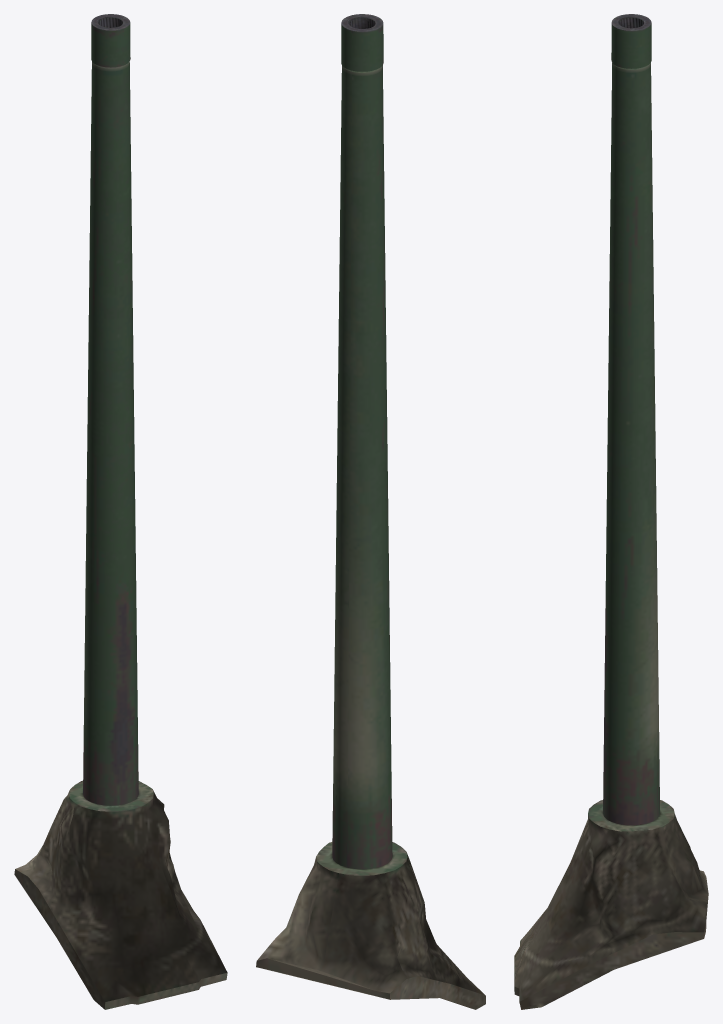
The model's file is Gun_02.glb.
3 renders of one model, left to right at view 1: azimuth 30°, elevation 25°; view 2: azimuth 150°, elevation 25°; view 3: azimuth 270°, elevation 25°, orthographic. The views are drawn at different scales.
Visible parts, largest first — view 1: set_0_group_0; view 2: set_0_group_0; view 3: set_0_group_0.
Part boxes in pixels (bbox=[...]): set_0_group_0: bbox=[14, 14, 227, 1009]; set_0_group_0: bbox=[256, 14, 485, 1009]; set_0_group_0: bbox=[514, 14, 708, 1009].
Bounding box in the file's own units: 0.4459 × 3.15 × 0.5797.
1 material, 1 textured.
